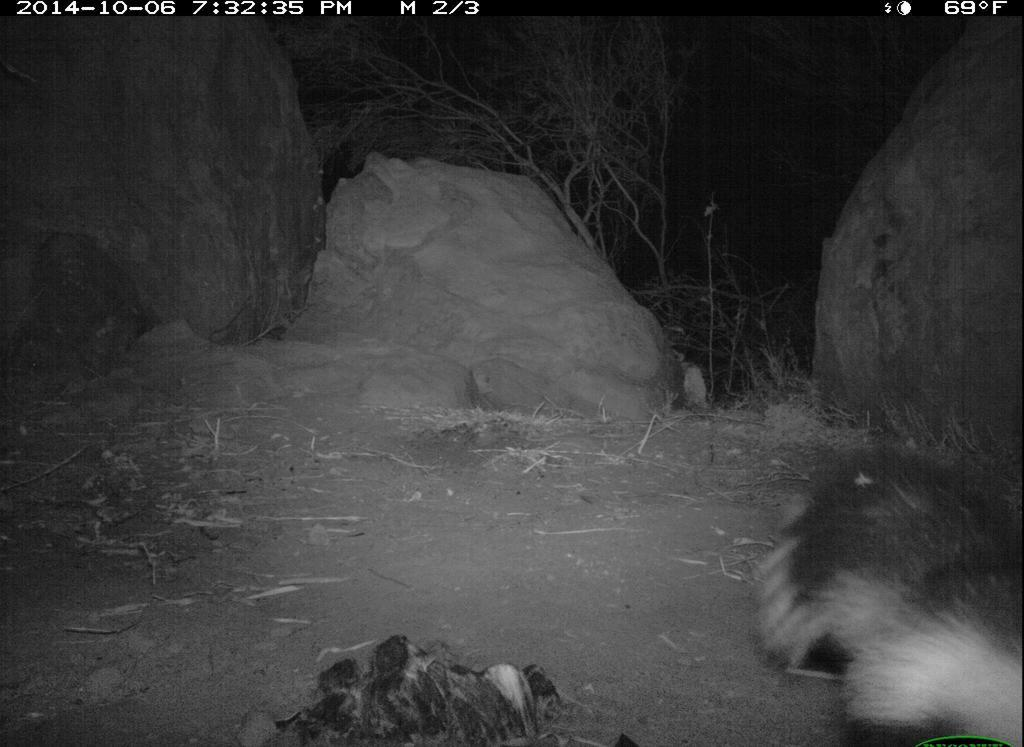skunk: (726, 419, 1004, 739)
